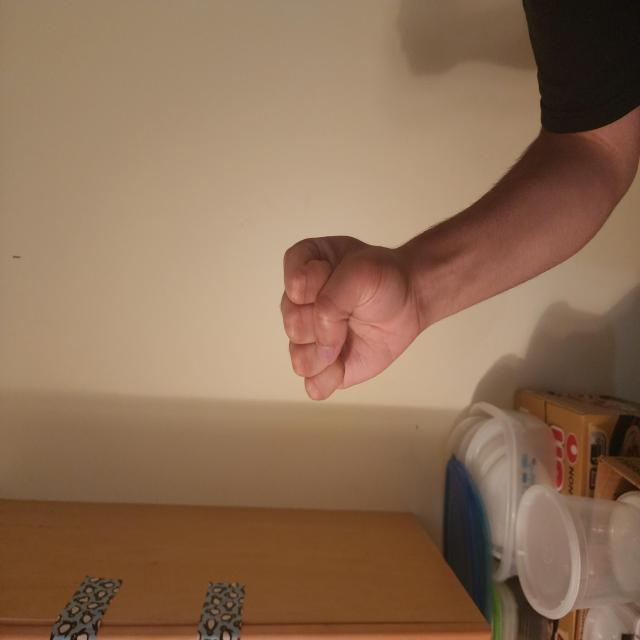S: (176, 367, 306, 572)
